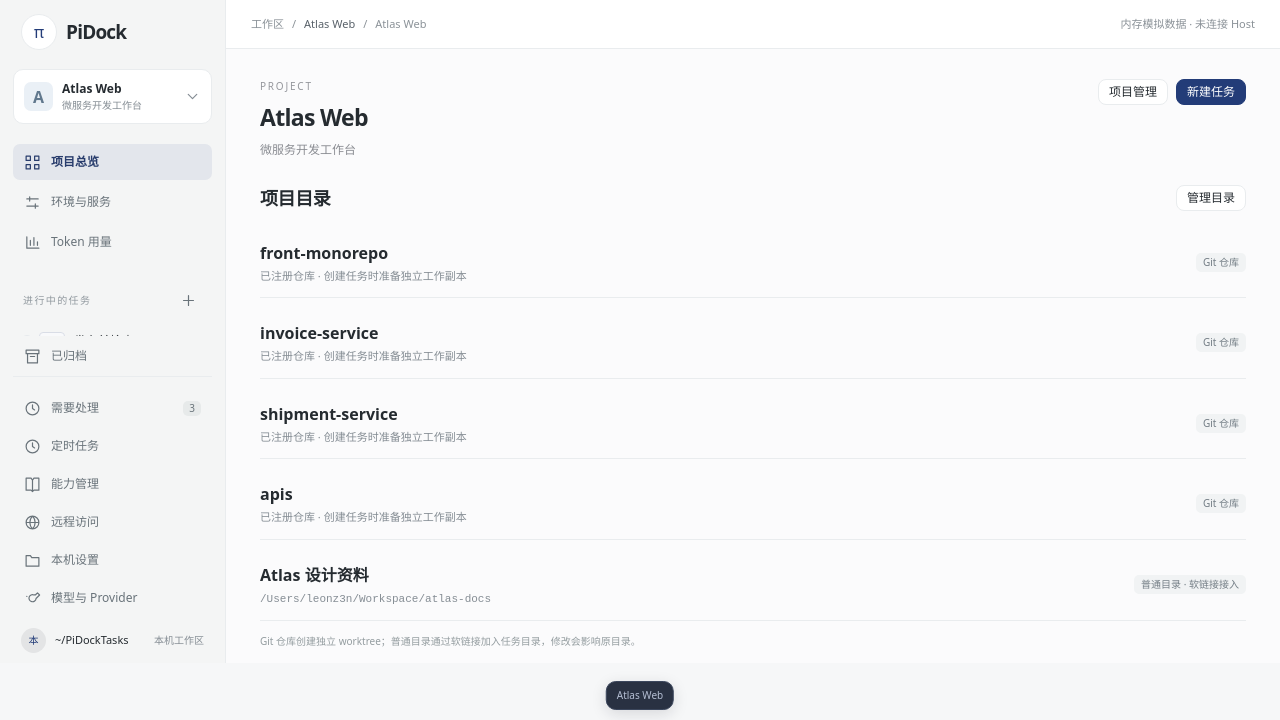
Test: new-task workspace preview › previews the pi workspace and symlink paths live in the new-task form
Expected: the heading "Atlas Web" is shown, [260, 100, 368, 134]
Click the button "新建任务" at (1211,92), box [1176, 79, 1246, 105]
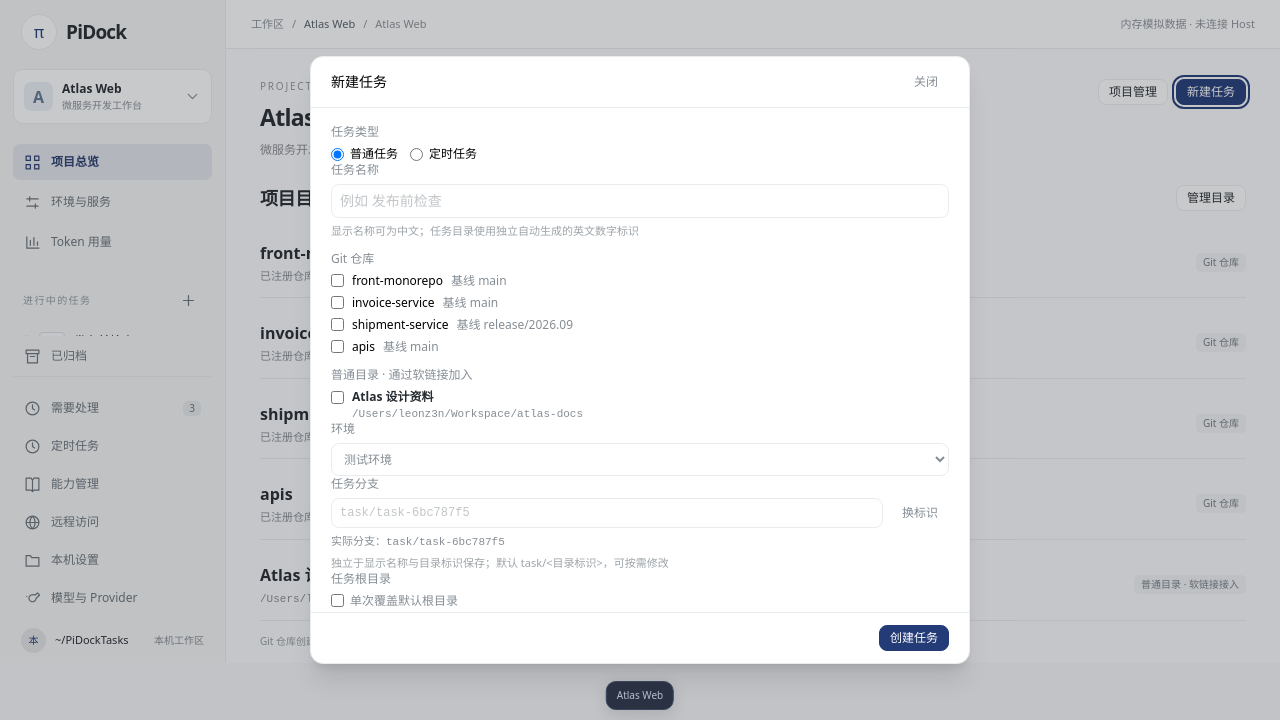
Note: Selecting a directory adds its in-task symlink path and original target.
Click the checkbox named "任务目录 Atlas 设计资料" at (338,397), box [331, 391, 344, 404]
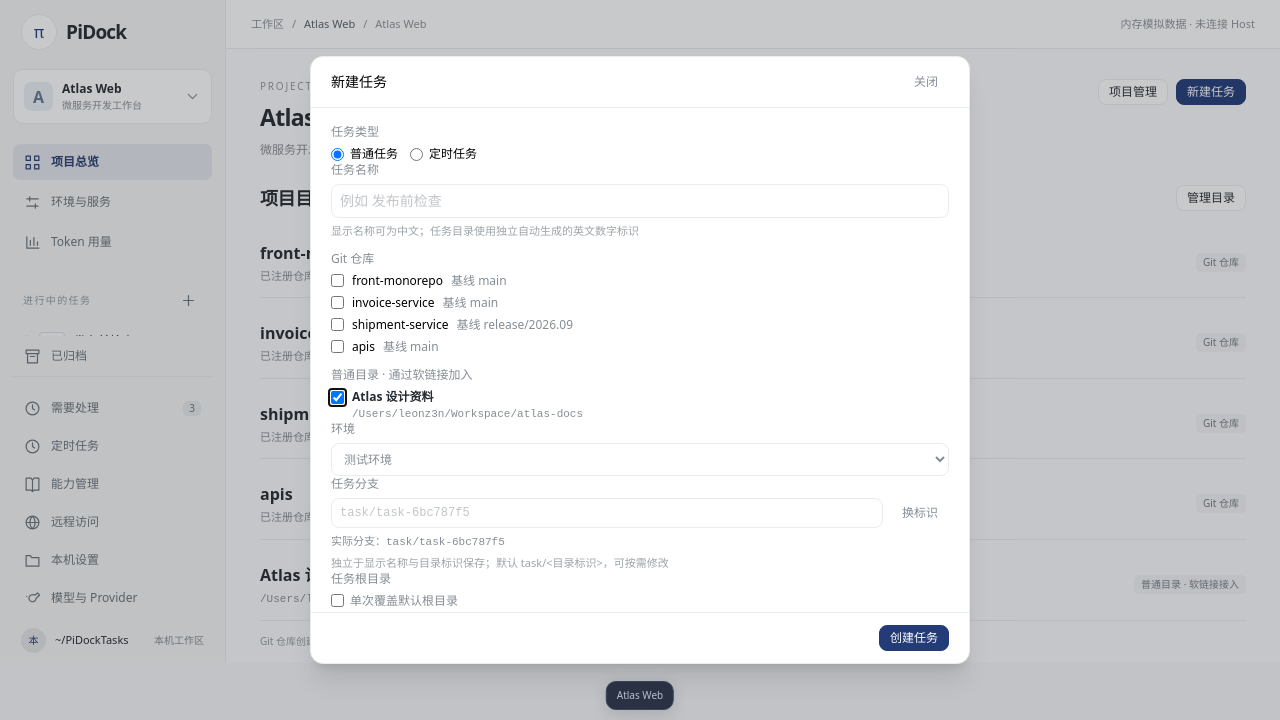
Note: Selecting a repo adds its worktree path under the same task folder.
Click the checkbox named "仓库 front-monorepo" at (338,281), box [331, 274, 344, 287]
(page scrolled)
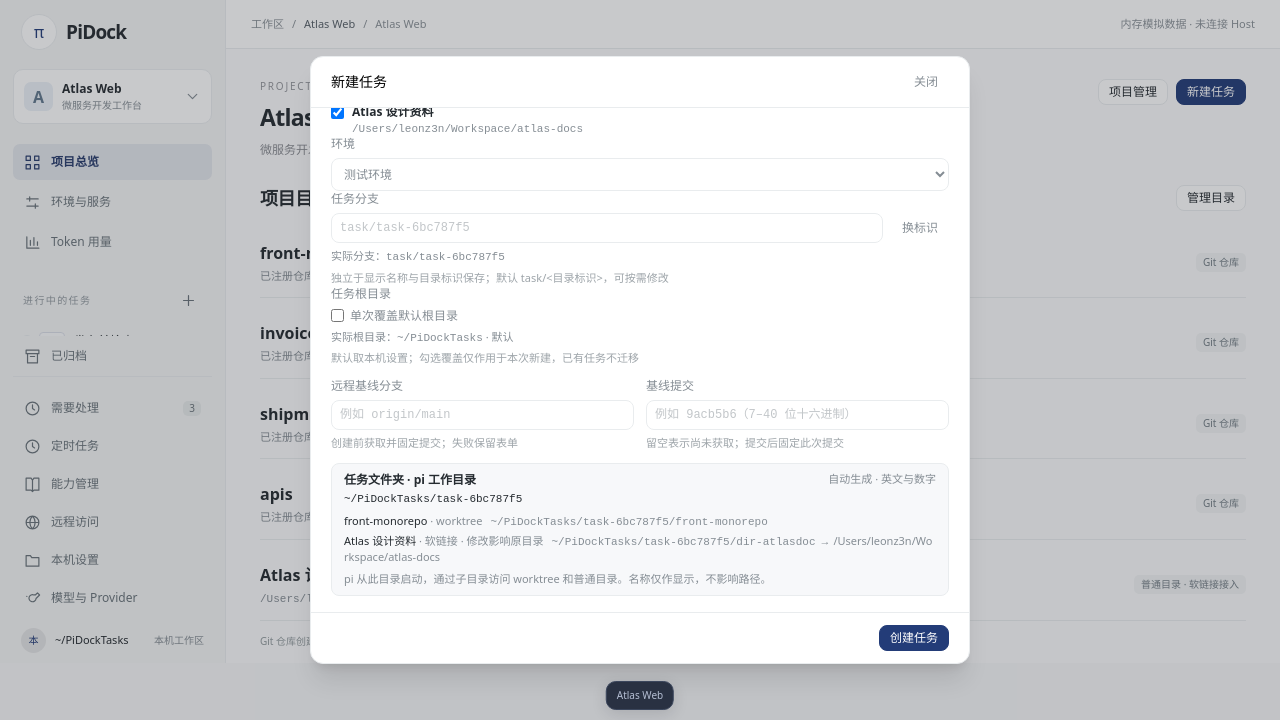
Expected: the element with test id "workspace-preview" shows "/front-monorepo", [490, 516, 768, 528]
